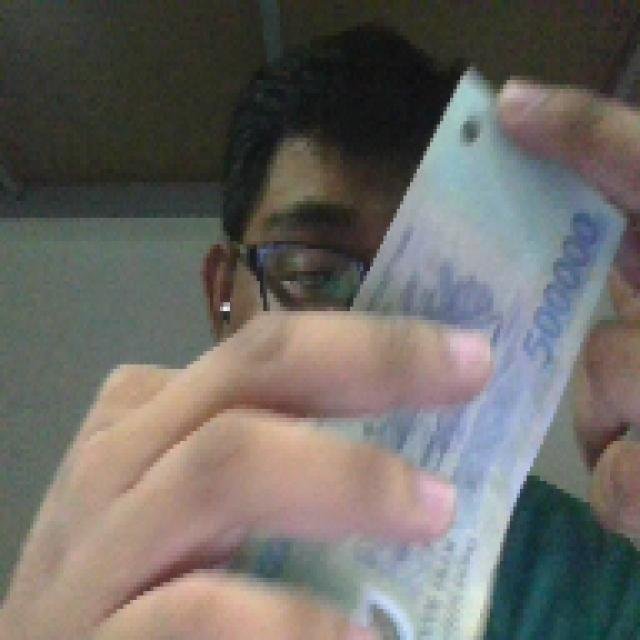500 000 VND: (224, 58, 630, 636)
